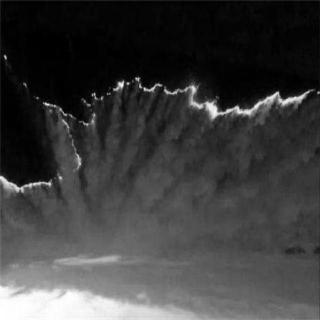other: (93, 78, 315, 126), (0, 100, 94, 208)
